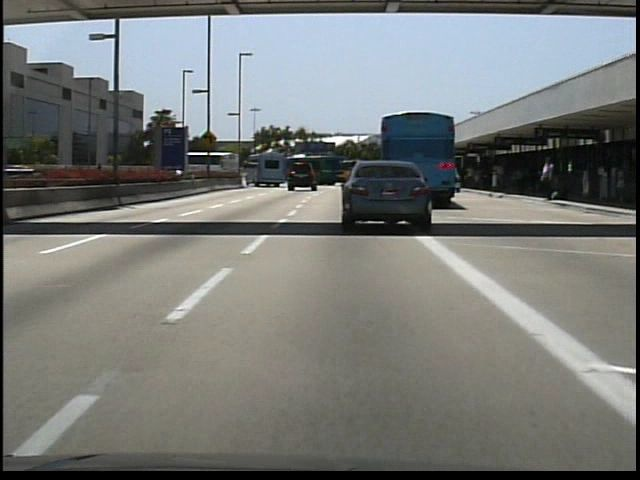person: (538, 155, 559, 202)
